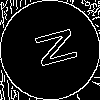N: (25, 25, 78, 72)
